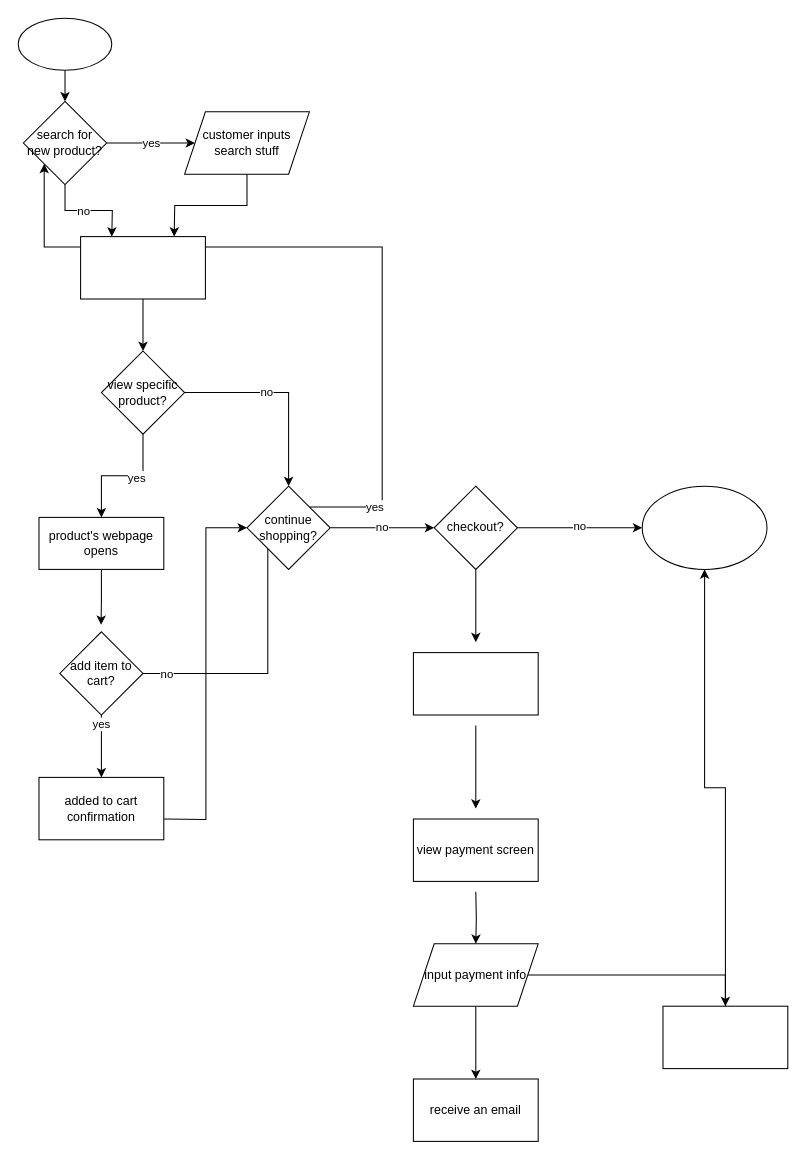
This 806x1160 diagram has some shape labels left out. Here are the shapes that lost their labels. From the top down, the centre of each, then its label:
At pixel 64 43: "user enters website".
At pixel 142 267: "user looks over product".
At pixel 704 527: "user leaves website".
At pixel 475 683: "view cart screen".
At pixel 725 1037: "order confirmation screen".
